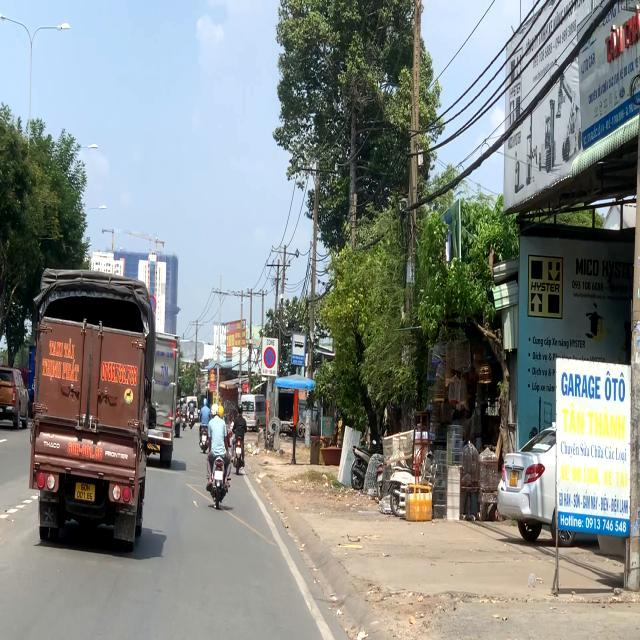Ben xe buyt: (290, 332, 306, 367)
Cam dung xe va do xe: (264, 346, 276, 368)
